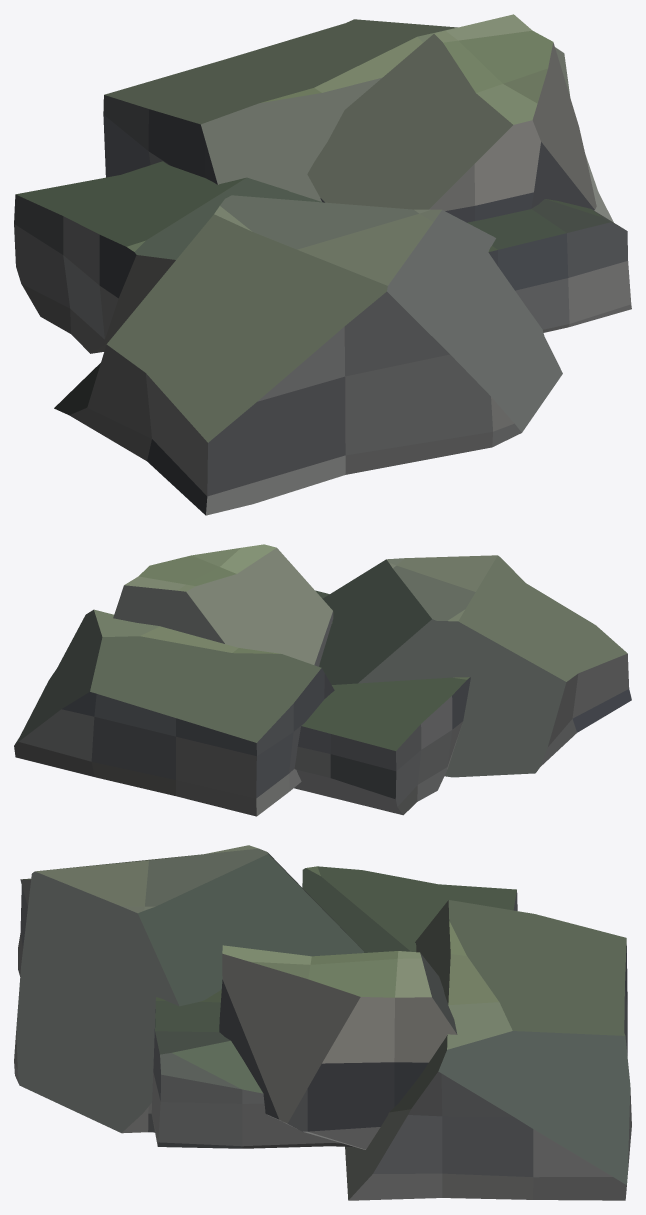
3 views of the same model, one above another, from view 1: azimuth 30°, elevation 25°; view 2: azimuth 150°, elevation 25°; view 3: azimuth 270°, elevation 25° (orthographic). The views are drawn at different scales.
Parts seen in each view (by area): view 1: env_boulder_cluster; view 2: env_boulder_cluster; view 3: env_boulder_cluster.
Boxes of the visible parts, x1,y1,x2,y2 form: env_boulder_cluster: (14,14,631,515); env_boulder_cluster: (14,544,631,816); env_boulder_cluster: (14,845,631,1200).
Bounding box in the file's own units: 3.05 × 1.08 × 2.98.
